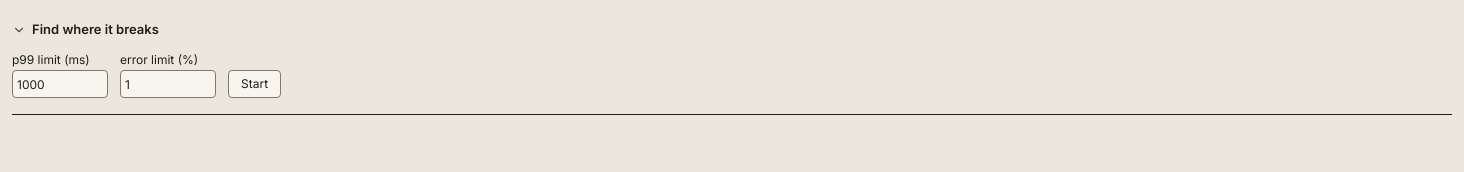
Test: a_busy_answer_shows_busy_and_starts_nothing
What coordinates should you click on to do the following:
click the button "Start"
I would click on:
 (255, 84)
Its box is [228,70,281,98].
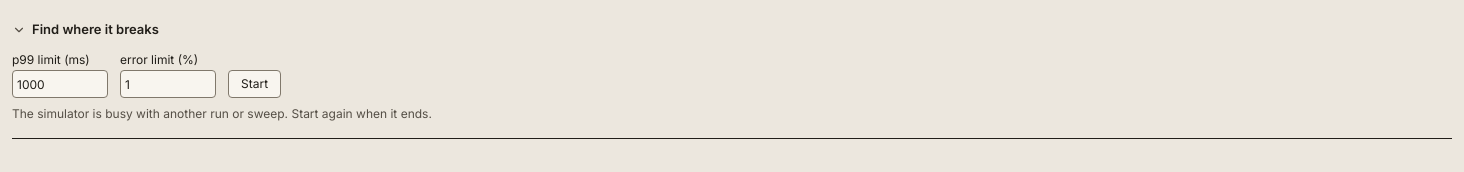
Expected: the text "busy" is shown, [12,106,432,121]
